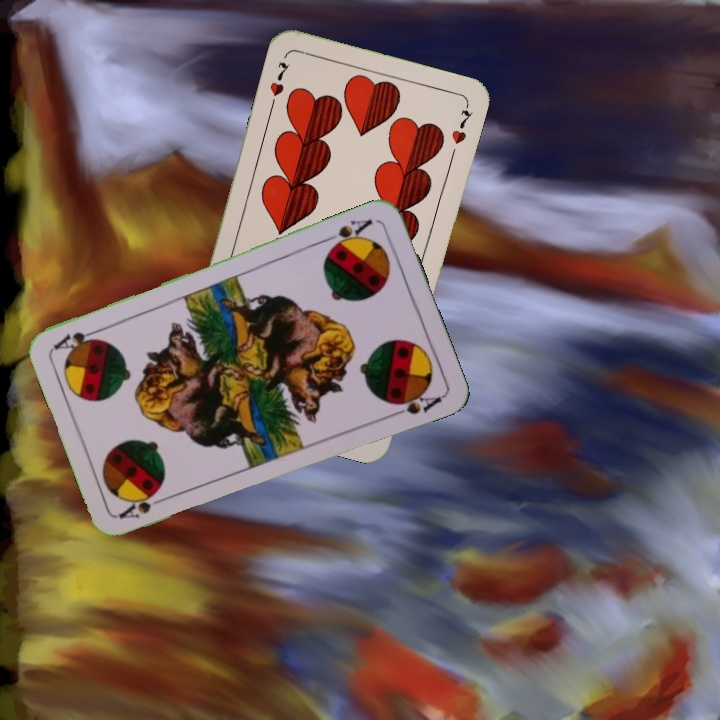H7: (265, 58, 292, 110)
SA: (321, 215, 375, 253), (115, 488, 172, 522)
